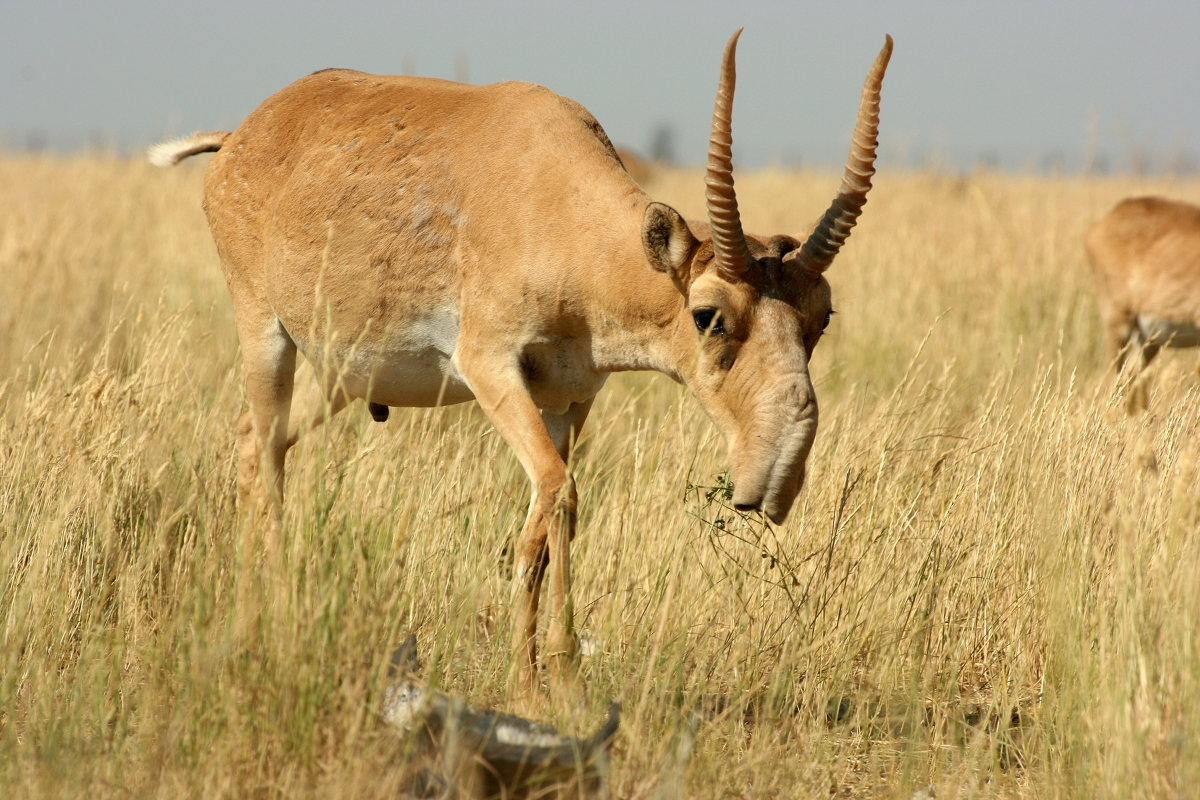saiga: (149, 29, 893, 686)
